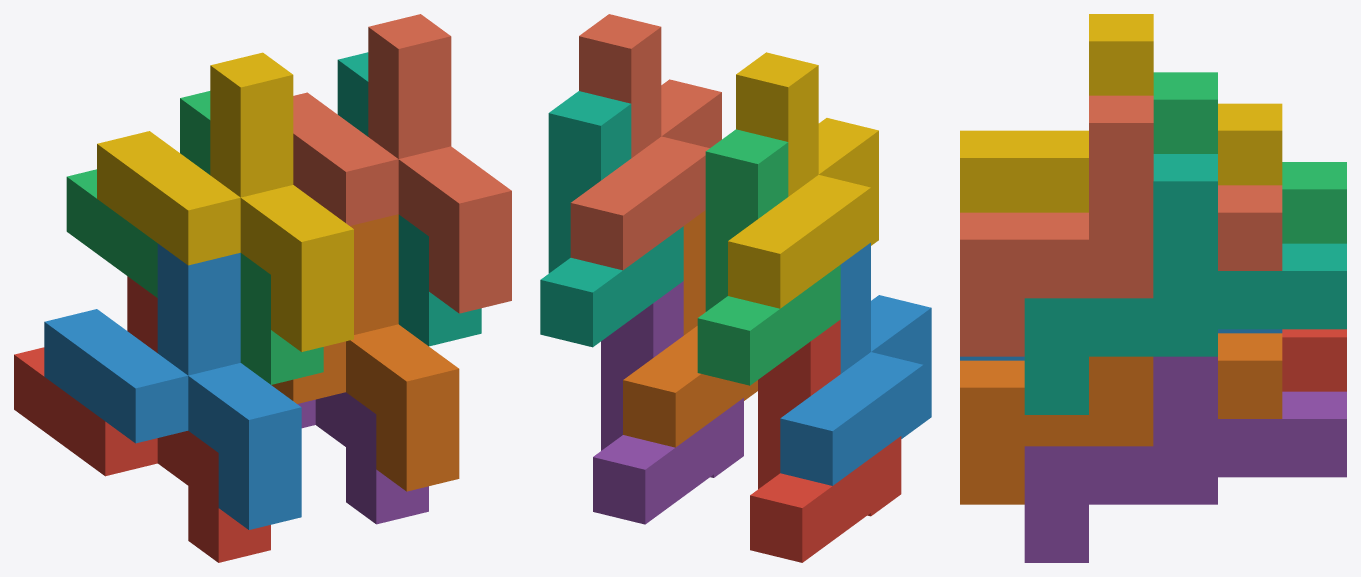
Rendered from tiling.obj.
The picture shows the model from 3 angles, left to right: view 1: azimuth 30°, elevation 25°; view 2: azimuth 150°, elevation 25°; view 3: azimuth 270°, elevation 25°; orthographic projection. The views are drawn at different scales.
Parts seen in each view (by area): view 1: copy_1_domain_4, copy_1_domain_2, copy_1_domain_8, copy_1_domain_6, copy_1_domain_1, copy_1_domain_3, copy_1_domain_7, copy_1_domain_5; view 2: copy_1_domain_4, copy_1_domain_8, copy_1_domain_2, copy_1_domain_3, copy_1_domain_7, copy_1_domain_1, copy_1_domain_5, copy_1_domain_6; view 3: copy_1_domain_7, copy_1_domain_8, copy_1_domain_5, copy_1_domain_6, copy_1_domain_4, copy_1_domain_3, copy_1_domain_1, copy_1_domain_2.
Part boxes in pixels (x1,y1,x2,y2): copy_1_domain_4: (97, 52, 353, 351); copy_1_domain_2: (44, 243, 301, 529); copy_1_domain_8: (293, 14, 511, 313); copy_1_domain_6: (271, 214, 459, 491); copy_1_domain_1: (14, 276, 270, 562); copy_1_domain_3: (66, 91, 323, 384); copy_1_domain_7: (337, 52, 481, 346); copy_1_domain_5: (297, 392, 428, 524); copy_1_domain_4: (728, 52, 878, 308); copy_1_domain_8: (570, 14, 721, 270); copy_1_domain_2: (780, 242, 931, 485); copy_1_domain_3: (697, 129, 840, 385); copy_1_domain_7: (540, 91, 683, 347); copy_1_domain_1: (750, 319, 901, 562); copy_1_domain_5: (593, 281, 743, 524); copy_1_domain_6: (623, 210, 757, 447); copy_1_domain_7: (1024, 154, 1346, 414); copy_1_domain_8: (960, 95, 1282, 356); copy_1_domain_5: (1024, 356, 1346, 562); copy_1_domain_6: (960, 333, 1282, 504); copy_1_domain_4: (960, 14, 1282, 212); copy_1_domain_3: (1153, 72, 1346, 243); copy_1_domain_1: (1282, 329, 1346, 391); copy_1_domain_2: (960, 329, 1282, 360).
Bounding box in the file's own units: 6 × 8 × 6.
